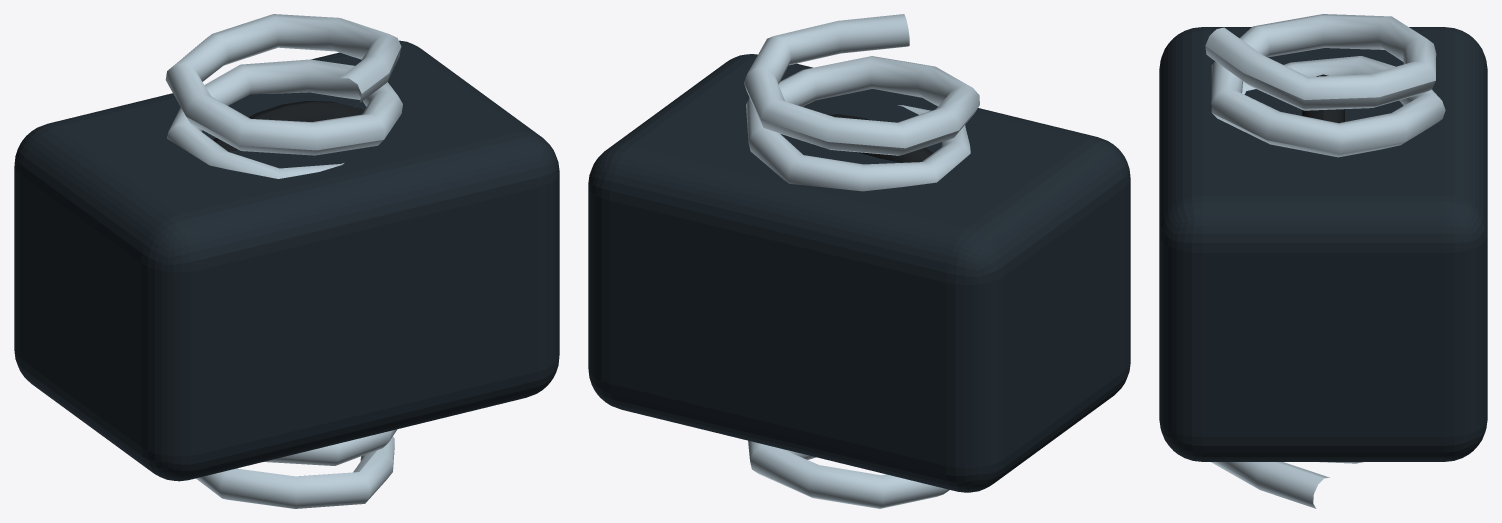
Rendered from remaining_systems_08.glb.
3 views of the same model, side by side, from view 1: azimuth 30°, elevation 25°; view 2: azimuth 150°, elevation 25°; view 3: azimuth 270°, elevation 25° (orthographic).
Visible parts, largest first — view 1: asset_mesh__remaining_systems_0827__reference_body, asset_mesh__remaining_systems_0853__coil_spring, asset_mesh__remaining_systems_0826__service_element; view 2: asset_mesh__remaining_systems_0827__reference_body, asset_mesh__remaining_systems_0853__coil_spring, asset_mesh__remaining_systems_0826__service_element; view 3: asset_mesh__remaining_systems_0827__reference_body, asset_mesh__remaining_systems_0853__coil_spring, asset_mesh__remaining_systems_0826__service_element.
Part boxes in pixels (x1,y1,x2,y2): asset_mesh__remaining_systems_0827__reference_body: (14,40,559,481); asset_mesh__remaining_systems_0853__coil_spring: (165,14,402,508); asset_mesh__remaining_systems_0826__service_element: (213,101,364,151); asset_mesh__remaining_systems_0827__reference_body: (588,54,1130,492); asset_mesh__remaining_systems_0853__coil_spring: (744,14,979,508); asset_mesh__remaining_systems_0826__service_element: (827,114,933,162); asset_mesh__remaining_systems_0827__reference_body: (1159,27,1487,461); asset_mesh__remaining_systems_0853__coil_spring: (1205,14,1445,508); asset_mesh__remaining_systems_0826__service_element: (1302,74,1344,123).
Bounding box in the file's own units: 1.22 × 1.24 × 0.84.
